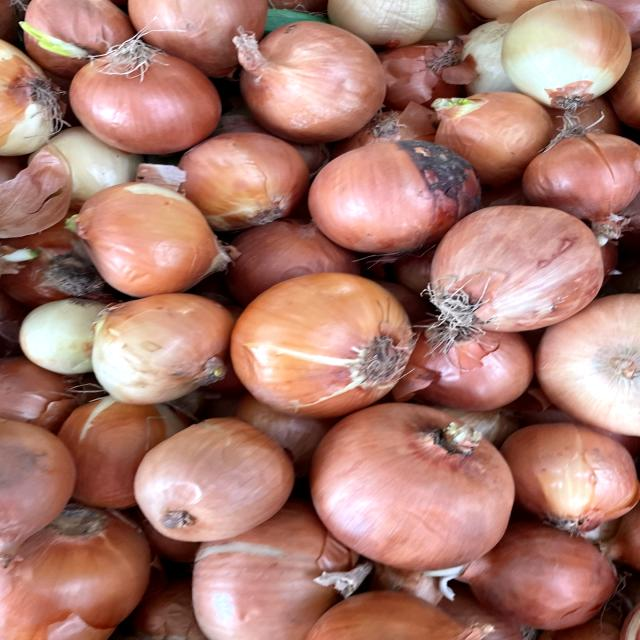onion: (299, 391, 529, 575), (416, 191, 619, 341), (225, 269, 418, 421), (121, 412, 298, 547), (223, 13, 400, 147), (64, 38, 225, 153), (493, 0, 640, 116)
